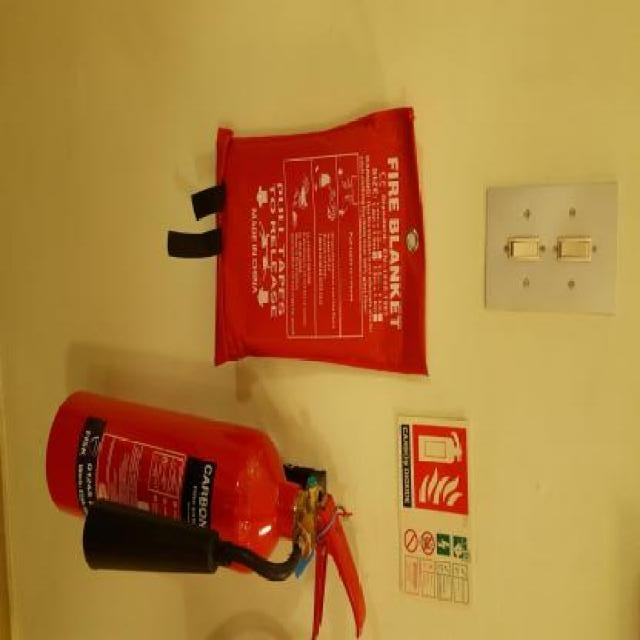fire extinguisher: (46, 389, 366, 640)
